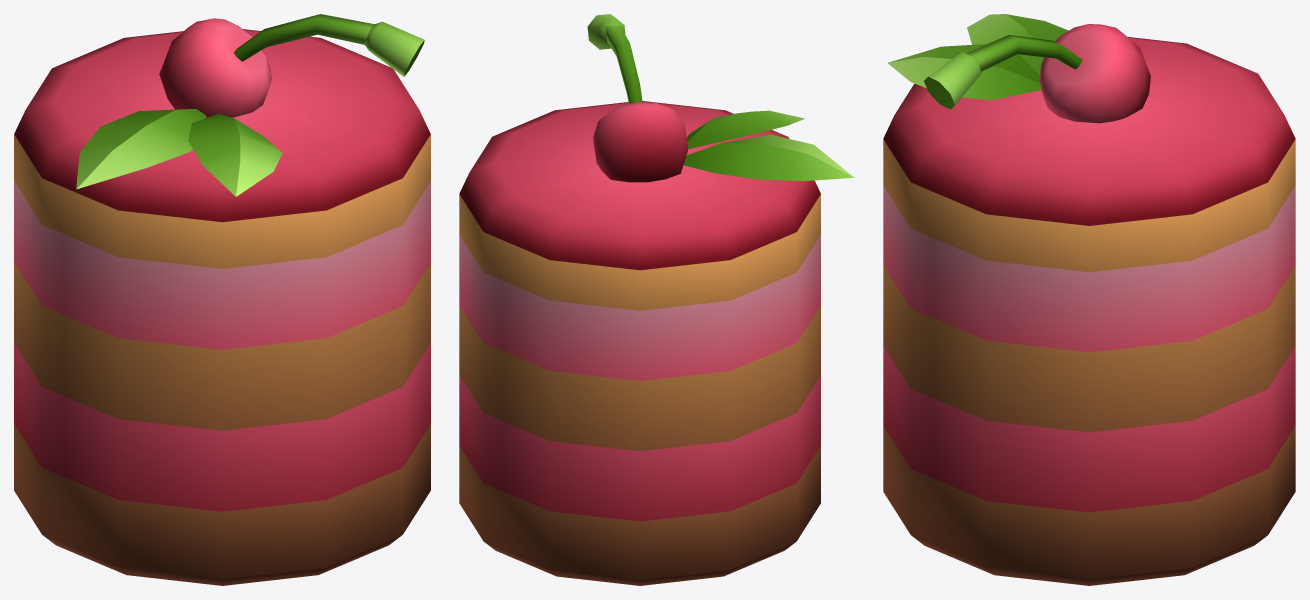
File: m_MiniCake02.fbx
3 views of the same model, side by side, from view 1: azimuth 30°, elevation 25°; view 2: azimuth 150°, elevation 25°; view 3: azimuth 270°, elevation 25° (orthographic). The views are drawn at different scales.
Parts seen in each view (by area): view 1: m_MiniCake02; view 2: m_MiniCake02; view 3: m_MiniCake02.
Boxes of the visible parts, bbox=[...] form: m_MiniCake02: bbox=[14, 14, 430, 585]; m_MiniCake02: bbox=[459, 14, 854, 585]; m_MiniCake02: bbox=[883, 14, 1295, 585].
Bounding box in the file's own units: 11.85 × 15.1 × 11.34.
